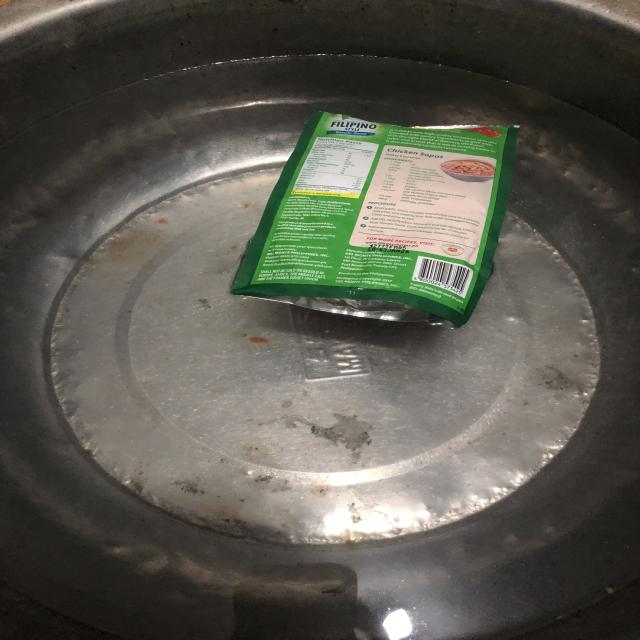Plastic Pouch: (209, 90, 561, 354)
